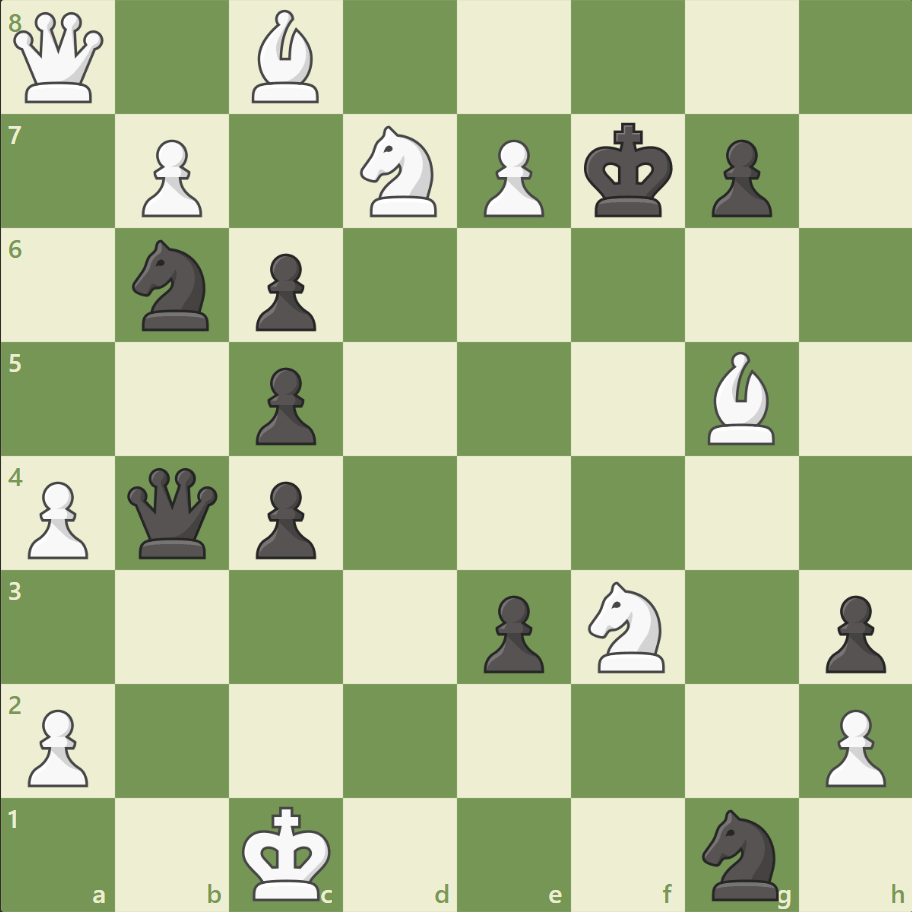B: (244, 6, 328, 109), (698, 347, 782, 449)
K: (238, 798, 338, 906)
N: (351, 121, 449, 223), (579, 575, 676, 677)
P: (133, 132, 208, 223), (474, 132, 549, 223), (20, 473, 95, 564), (20, 700, 95, 791), (815, 700, 889, 791)
Q: (10, 9, 109, 108)
k: (579, 117, 679, 225)
n: (124, 234, 222, 337), (692, 802, 789, 904)
p: (701, 132, 776, 223), (247, 246, 322, 337), (247, 359, 322, 450), (247, 473, 322, 564), (474, 586, 549, 677), (815, 586, 889, 677)
q: (124, 463, 223, 562)
